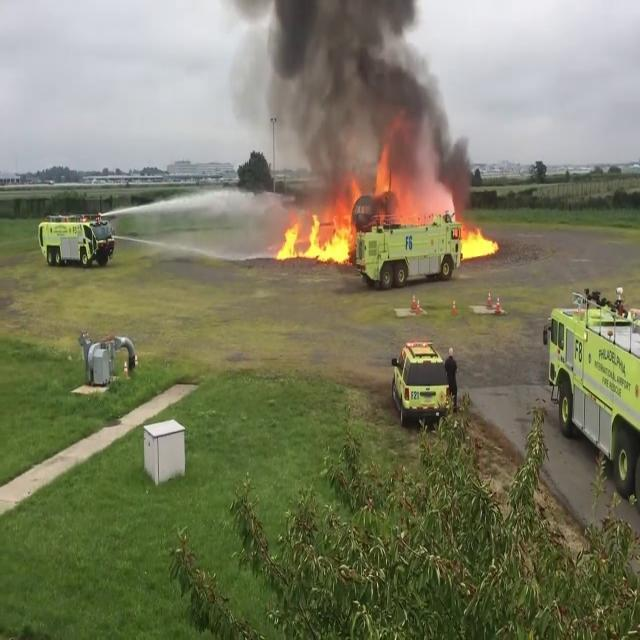Fire: (278, 202, 356, 266), (449, 218, 499, 259)
Smoke: (245, 0, 469, 189)
